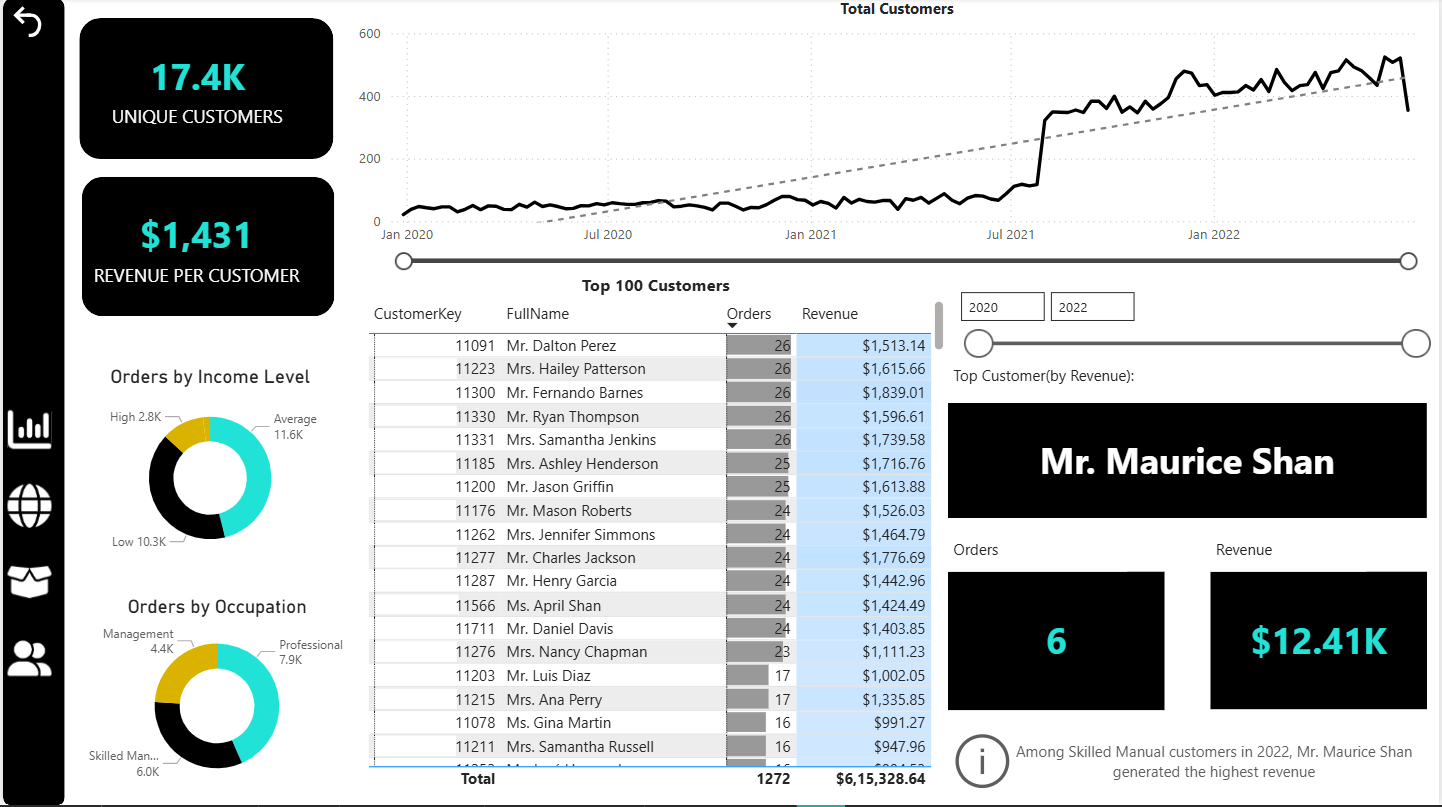

The page's visual inventory and layout, read from the dashboard file:
{"tool":"powerbi","page":{"name":"Customer Detail","canvas":[1280,720],"ordinal":3},"visuals":[{"type":"shape","box":[0,0,55,720.3],"z":0},{"type":"card","fields":{"Values":["Min(Customer Lookup.FullName)"]},"box":[841.2,359.7,426.7,102.8],"z":0,"group":"g2"},{"type":"card","fields":{"Values":["Measure Table.Total Orders"]},"box":[841.2,510.1,193.1,123.4],"z":0,"group":"g1"},{"type":"shape","box":[69.7,159.2,225.2,124.4],"z":1000},{"type":"textbox","box":[841.2,475.4,159.4,34.7],"z":1000,"group":"g1"},{"type":"card","fields":{"Values":["Measure Table.Total Revenue"]},"box":[1074.8,510.1,193.1,122.1],"z":1000,"group":"g2"},{"type":"shape","box":[68.4,17.4,226.4,125.6],"z":2000},{"type":"textbox","box":[841.2,321.2,426.7,38.5],"z":2000,"group":"g2"},{"type":"textbox","box":[1074.8,475.4,138.1,34.7],"z":2000,"group":"g1"},{"type":"card","fields":{"Values":["Measure Table.Total Customers"]},"box":[82.1,2.5,181.6,156.7],"z":3000},{"type":"group","id":"g1","title":"Group 1","box":[841.2,475.4,371.7,158],"z":3000,"group":"g2"},{"type":"card","fields":{"Values":["Measure Table.Revenue per Customer"]},"box":[70.9,143.1,202.8,156.7],"z":4000},{"type":"lineChart","title":"Total Customers ","fields":{"Y":["Measure Table.Total Customers"],"Category":["Calendar Lookup.Start of Week","Calendar Lookup.Data Hierarchy.Start of Year","Calendar Lookup.Data Hierarchy.Start of Month","Calendar Lookup.Data Hierarchy.Start of Week"]},"box":[311.2,0,968.8,245],"z":5000},{"type":"donutChart","fields":{"Category":["Customer Lookup.Income Level"],"Y":["Measure Table.Total Orders"]},"box":[79.6,327.2,209,181.6],"z":6000},{"type":"donutChart","title":"Orders by Occupation","fields":{"Category":["Customer Lookup.Occupation"],"Y":["Measure Table.Total Orders"]},"box":[69.7,532.4,241.3,177.9],"z":7000},{"type":"tableEx","title":"Top 100 Customers","fields":{"Values":["Customer Lookup.CustomerKey","Customer Lookup.FullName","Measure Table.Total Orders","Measure Table.Total Revenue"]},"box":[320,245,523.8,465],"z":8000},{"type":"slicer","fields":{"Values":["Calendar Lookup.Year"]},"box":[840.9,251.3,439.1,75.9],"z":9000},{"type":"group","id":"g2","title":"Group 2","box":[841.2,321.2,426.2,312.5],"z":10000},{"type":"actionButton","box":[3.8,2.5,71.2,38.8],"z":11000},{"type":"actionButton","box":[841.2,648.8,425,61.2],"z":12000},{"type":"actionButton","box":[0,360.7,54.7,47.3],"z":13000},{"type":"actionButton","box":[0,428.8,54.7,47.3],"z":14000},{"type":"actionButton","box":[0,496.8,54.7,47.3],"z":15000},{"type":"actionButton","box":[0,564.8,54.7,47.3],"z":16000}]}

Visuals, with their boxes on the page's 1280x720 design canvas (x1, y1, x2, y2). These are canvas units, not pixel positions in the 1442x807 screenshot, which may show the page scaled, cropped or inside an application window:
shape: x1=0 y1=0 x2=55 y2=720
card - Min(Customer Lookup.FullName): x1=841 y1=360 x2=1268 y2=462
card - Measure Table.Total Orders: x1=841 y1=510 x2=1034 y2=634
shape: x1=70 y1=159 x2=295 y2=284
textbox: x1=841 y1=475 x2=1001 y2=510
card - Measure Table.Total Revenue: x1=1075 y1=510 x2=1268 y2=632
shape: x1=68 y1=17 x2=295 y2=143
textbox: x1=841 y1=321 x2=1268 y2=360
textbox: x1=1075 y1=475 x2=1213 y2=510
card - Measure Table.Total Customers: x1=82 y1=2 x2=264 y2=159
"Group 1" group: x1=841 y1=475 x2=1213 y2=633
card - Measure Table.Revenue per Customer: x1=71 y1=143 x2=274 y2=300
"Total Customers " lineChart: x1=311 y1=0 x2=1280 y2=245
donutChart - Customer Lookup.Income Level x Measure Table.Total Orders: x1=80 y1=327 x2=289 y2=509
"Orders by Occupation" donutChart: x1=70 y1=532 x2=311 y2=710
"Top 100 Customers" tableEx: x1=320 y1=245 x2=844 y2=710
slicer - Calendar Lookup.Year: x1=841 y1=251 x2=1280 y2=327
"Group 2" group: x1=841 y1=321 x2=1267 y2=634
actionButton: x1=4 y1=2 x2=75 y2=41
actionButton: x1=841 y1=649 x2=1266 y2=710
actionButton: x1=0 y1=361 x2=55 y2=408
actionButton: x1=0 y1=429 x2=55 y2=476
actionButton: x1=0 y1=497 x2=55 y2=544
actionButton: x1=0 y1=565 x2=55 y2=612
